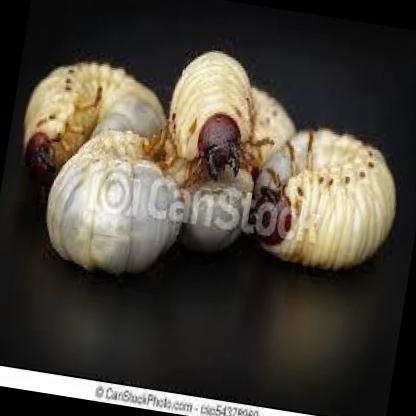root grubs: (253, 126, 396, 269), (46, 131, 179, 278)
